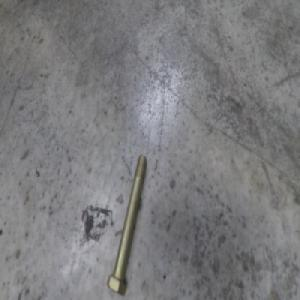Bolt: (107, 153, 146, 295)
